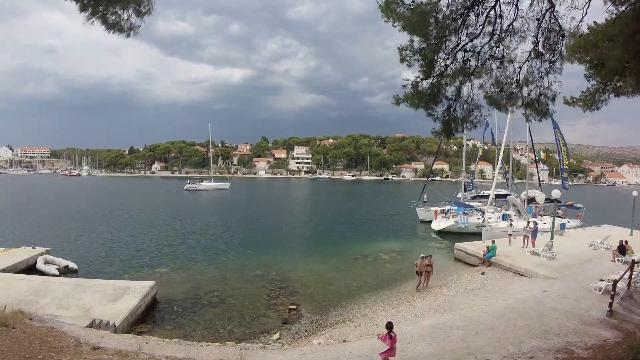Sailboat: (178, 173, 238, 195)
